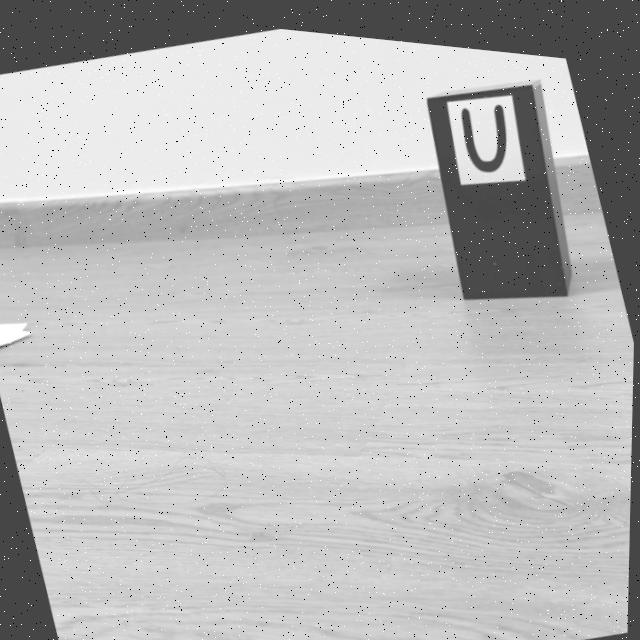U: (461, 93, 507, 161)
